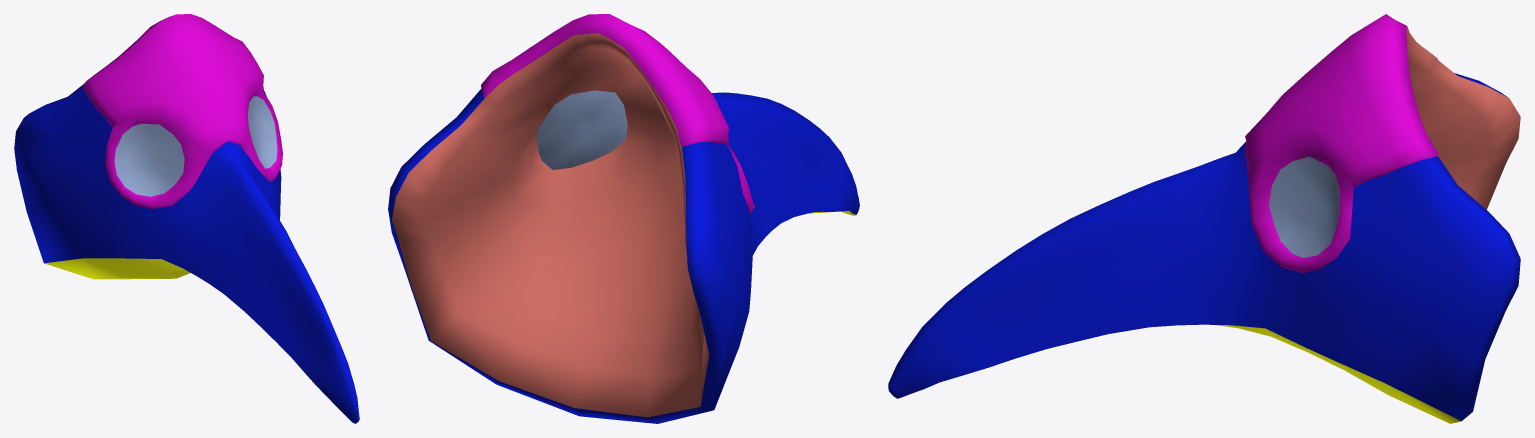
File: plagumask.fbx
3 views of the same model, side by side, from view 1: azimuth 30°, elevation 25°; view 2: azimuth 150°, elevation 25°; view 3: azimuth 270°, elevation 25° (orthographic). The views are drawn at different scales.
Parts seen in each view (by area): view 1: LP_mask.final; view 2: LP_mask.final; view 3: LP_mask.final.
Boxes of the visible parts, x1=… form: LP_mask.final: x1=14, y1=14, x2=359, y2=423; LP_mask.final: x1=388, y1=14, x2=859, y2=423; LP_mask.final: x1=888, y1=14, x2=1520, y2=423.
Bounding box in the file's own units: 91.32 × 103 × 156.
